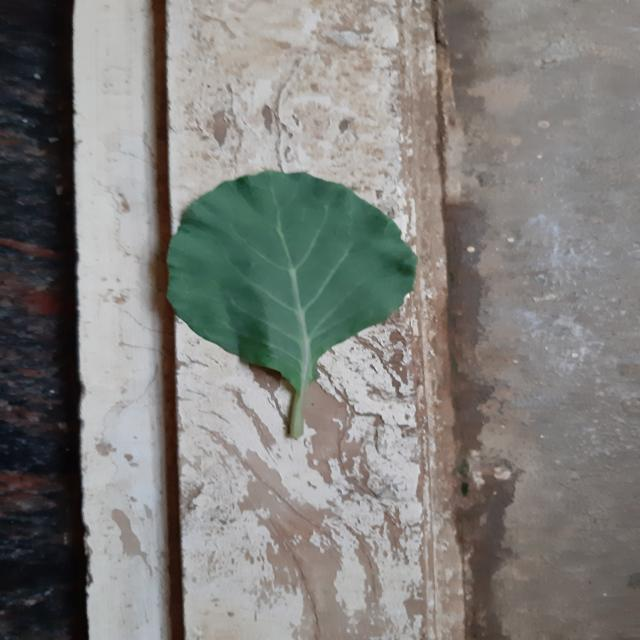Kohlrabi: (167, 171, 418, 438)
